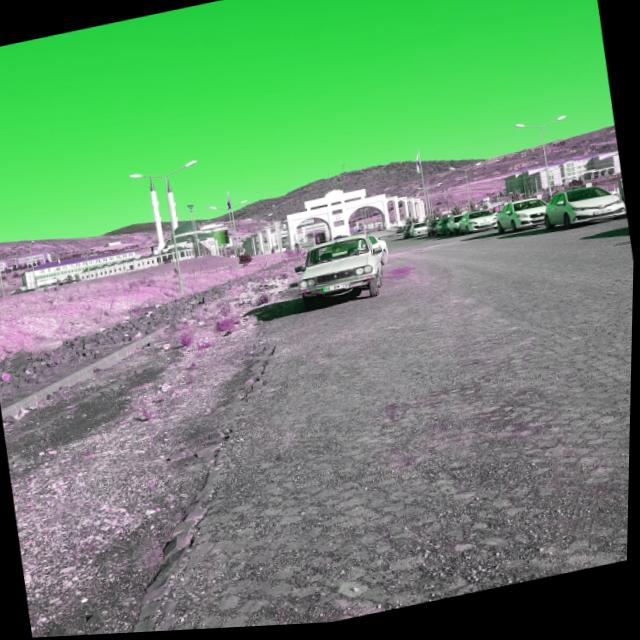license_plate: (325, 285, 352, 296)
